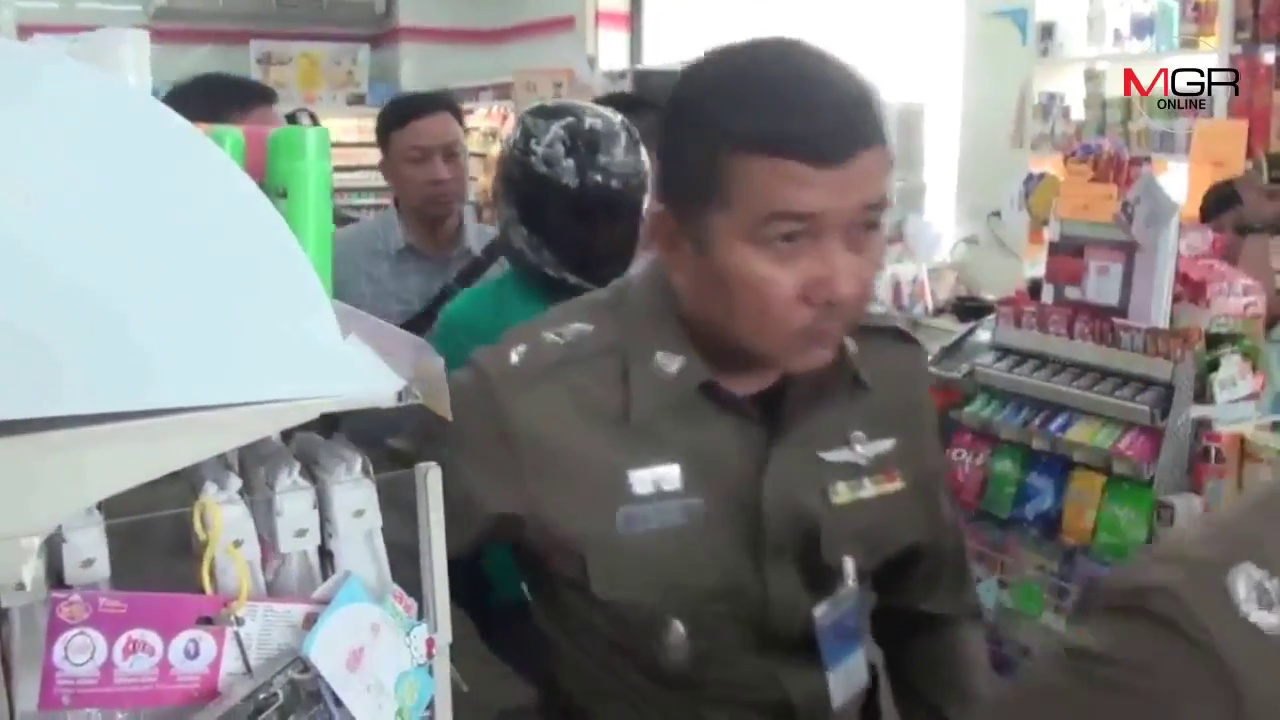helmet: (482, 100, 645, 289)
